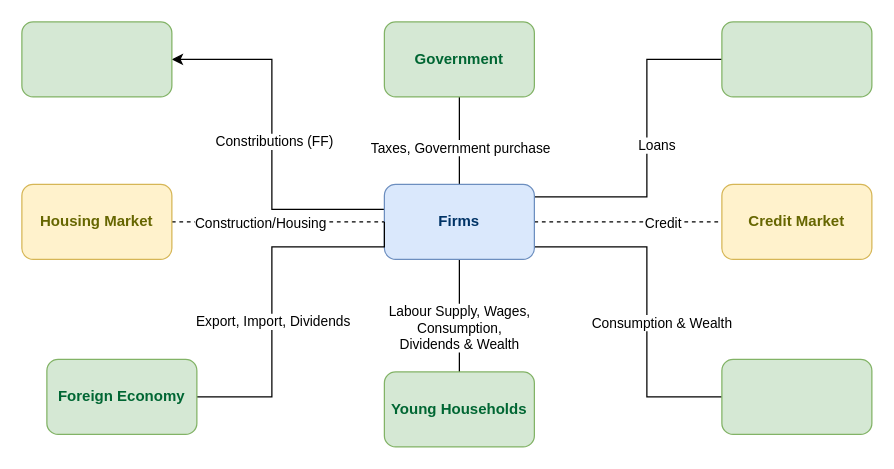
The diagram is 894 pixels wide and 469 high, and some of its shapes have lost their labels. Each missing label, with the box of its shape:
Banks: (721, 21, 872, 97)
Pension Funds: (21, 21, 172, 97)
Retired Households: (721, 358, 872, 434)
